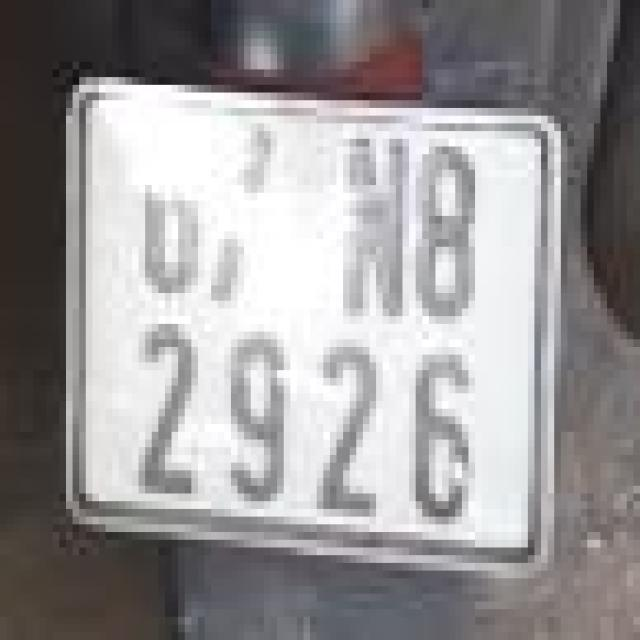2: (320, 340, 406, 548), (148, 336, 221, 528)
6: (145, 116, 218, 324), (422, 339, 495, 540)
7: (221, 120, 287, 312)
8: (419, 123, 492, 324)
9: (234, 336, 307, 544)
N: (346, 123, 419, 340)
